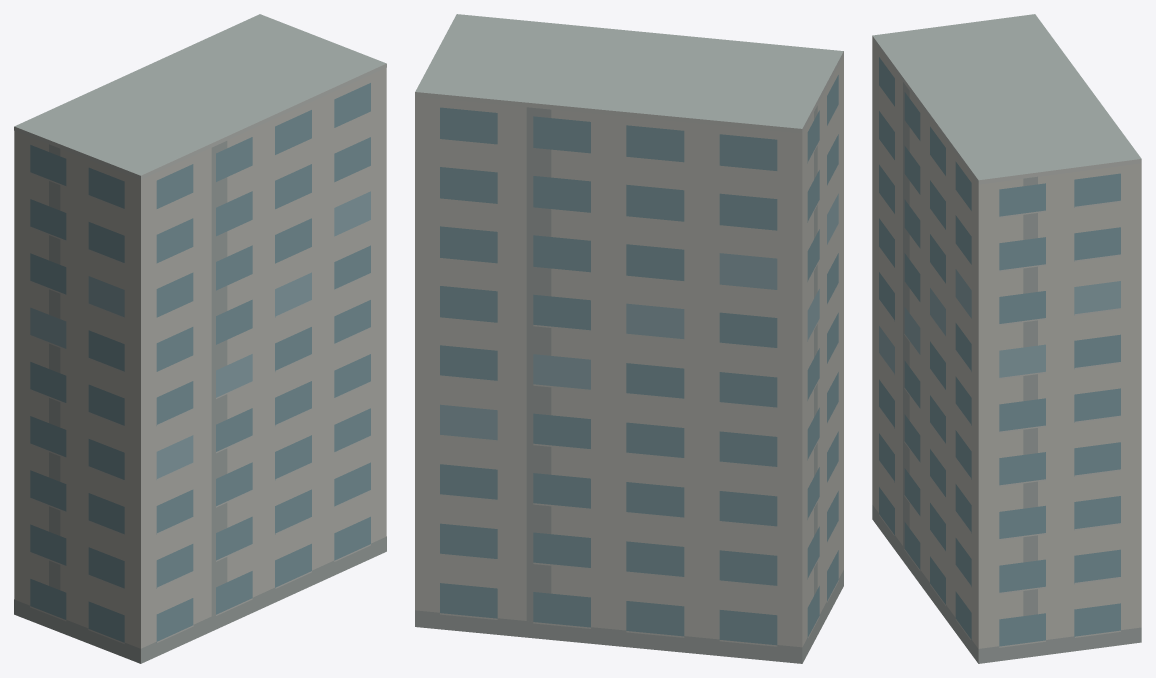
File: residential-b64d654d-34e3-4c50-850f-4b06107a8ba2.glb
3 renders of one model, left to right at view 1: azimuth 30°, elevation 25°; view 2: azimuth 150°, elevation 25°; view 3: azimuth 270°, elevation 25°, orthographic. The views are drawn at different scales.
Visible parts, largest first — view 1: residential-b64d654d-34e3-4c50-850f-4b06107a8ba2.tmp; view 2: residential-b64d654d-34e3-4c50-850f-4b06107a8ba2.tmp; view 3: residential-b64d654d-34e3-4c50-850f-4b06107a8ba2.tmp.
Part boxes in pixels (box(x1,y1,x2,y2)): residential-b64d654d-34e3-4c50-850f-4b06107a8ba2.tmp: box(14, 14, 386, 663); residential-b64d654d-34e3-4c50-850f-4b06107a8ba2.tmp: box(415, 14, 843, 663); residential-b64d654d-34e3-4c50-850f-4b06107a8ba2.tmp: box(872, 14, 1141, 663).
Bounding box in the file's own units: 20.66 × 28 × 14.15.
